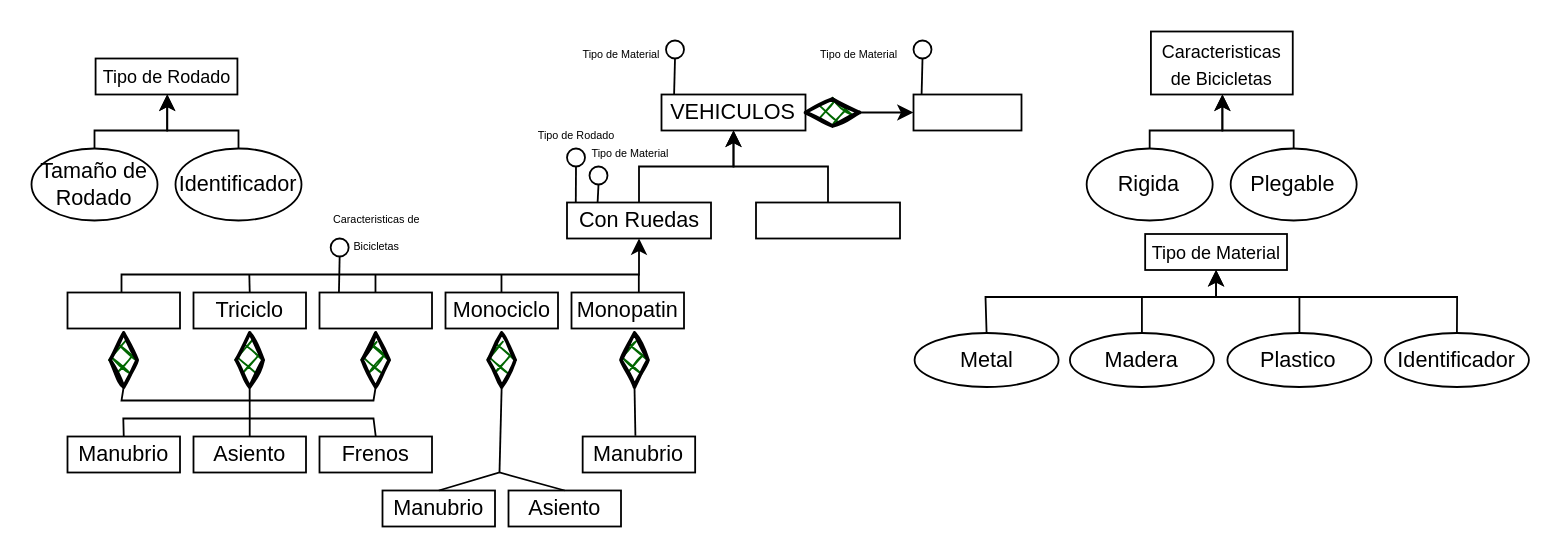
Image size: 1561x558. Some labels were removed from this diagram. The shapes that lost their labels are listed below. From the top down, each one's centre as x and y in pixels, then its label:
At pixel 967 111: "Chasis".
At pixel 827 219: "Sin Ruedas".
At pixel 123 309: "Cuatriciclo".
At pixel 375 309: "Bicicleta".
